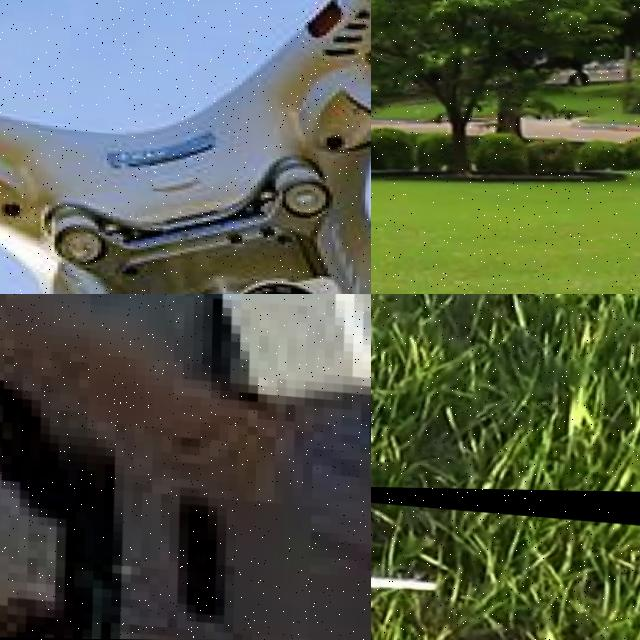0: (0, 0, 371, 294)
drone: (0, 294, 371, 640), (371, 482, 640, 640)
